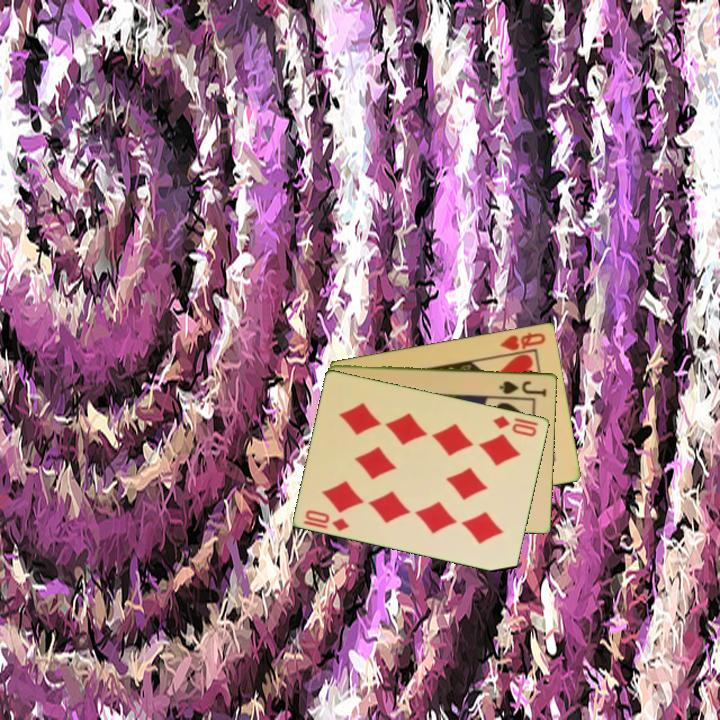10d: (300, 506, 353, 534), (490, 412, 540, 440)
Js: (496, 377, 549, 398)
Qh: (496, 329, 548, 353)
